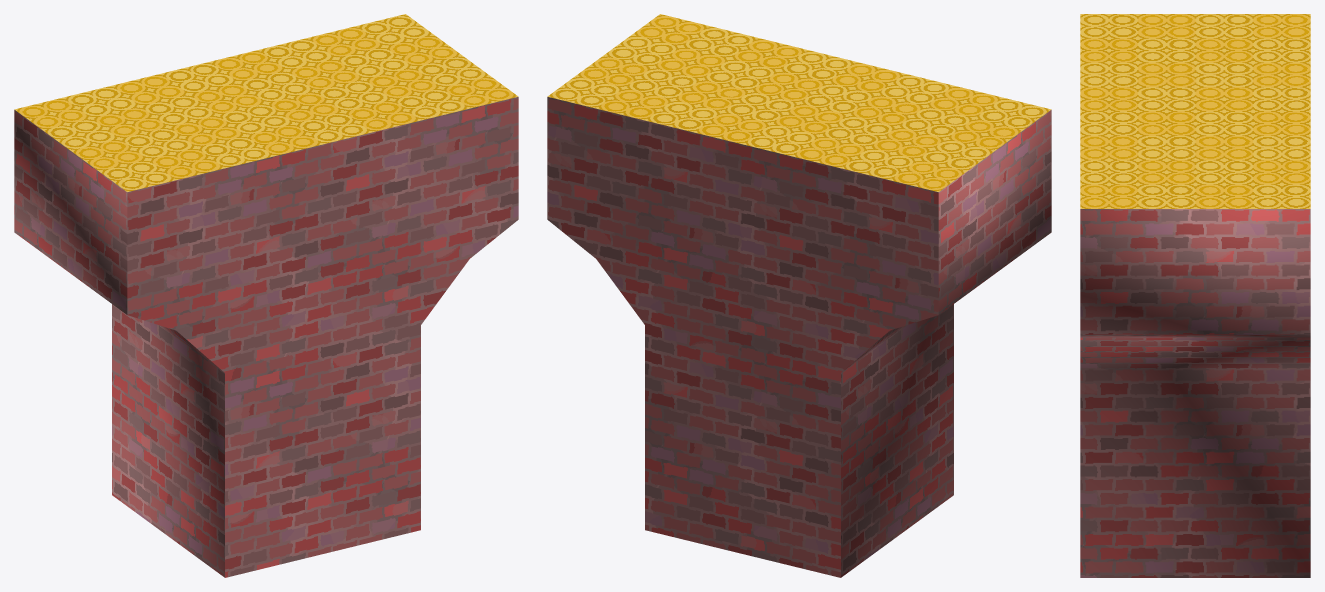
File: arch.gltf
The picture shows the model from 3 angles, left to right: view 1: azimuth 30°, elevation 25°; view 2: azimuth 150°, elevation 25°; view 3: azimuth 270°, elevation 25°; orthographic projection. The views are drawn at different scales.
Parts seen in each view (by area): view 1: Cube; view 2: Cube; view 3: Cube.
Part boxes in pixels (x1=…): Cube: x1=14, y1=14, x2=518, y2=577; Cube: x1=547, y1=14, x2=1051, y2=577; Cube: x1=1080, y1=14, x2=1310, y2=577.
Size of the model in its own units: 4 by 4 by 2.
Materials: 2 (2 with a texture image).
